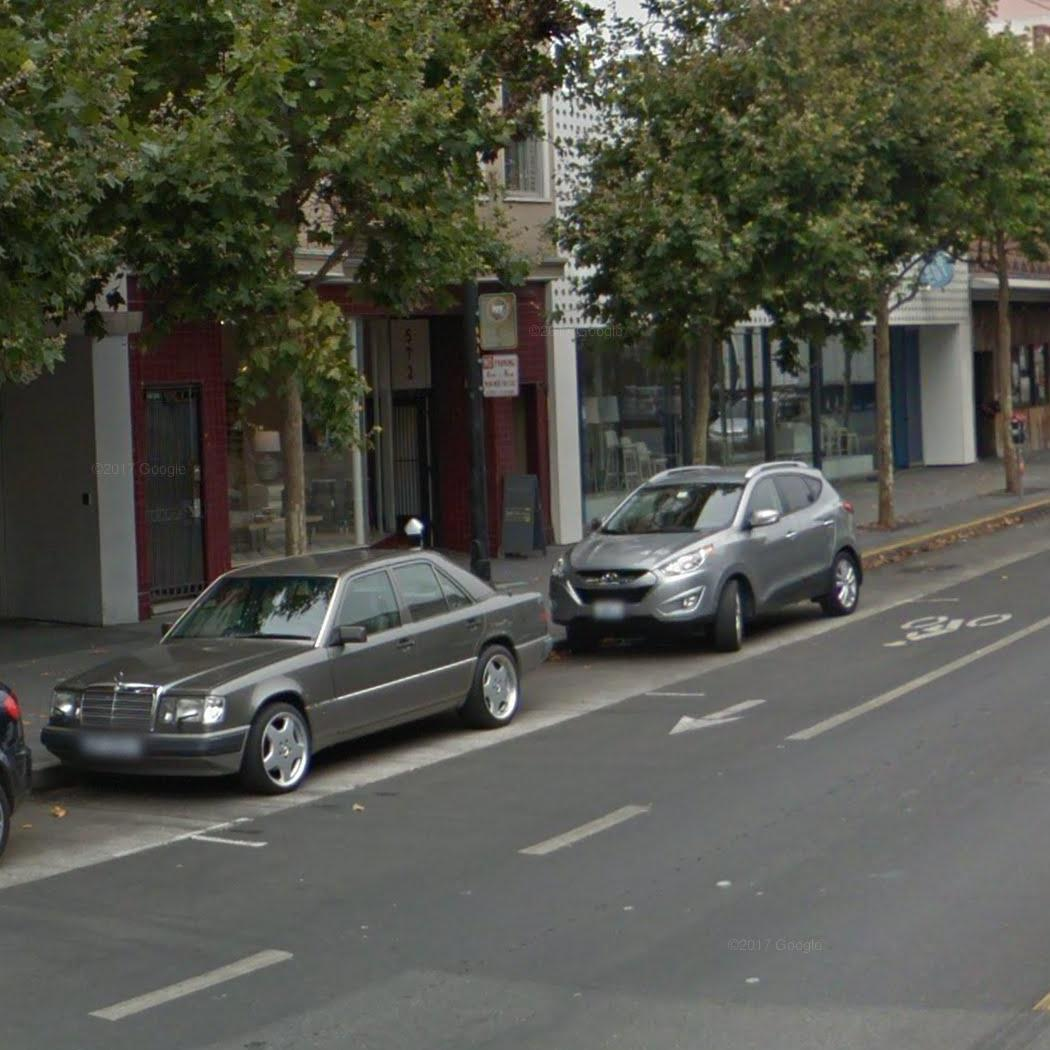No Parking: (477, 351, 524, 401)
